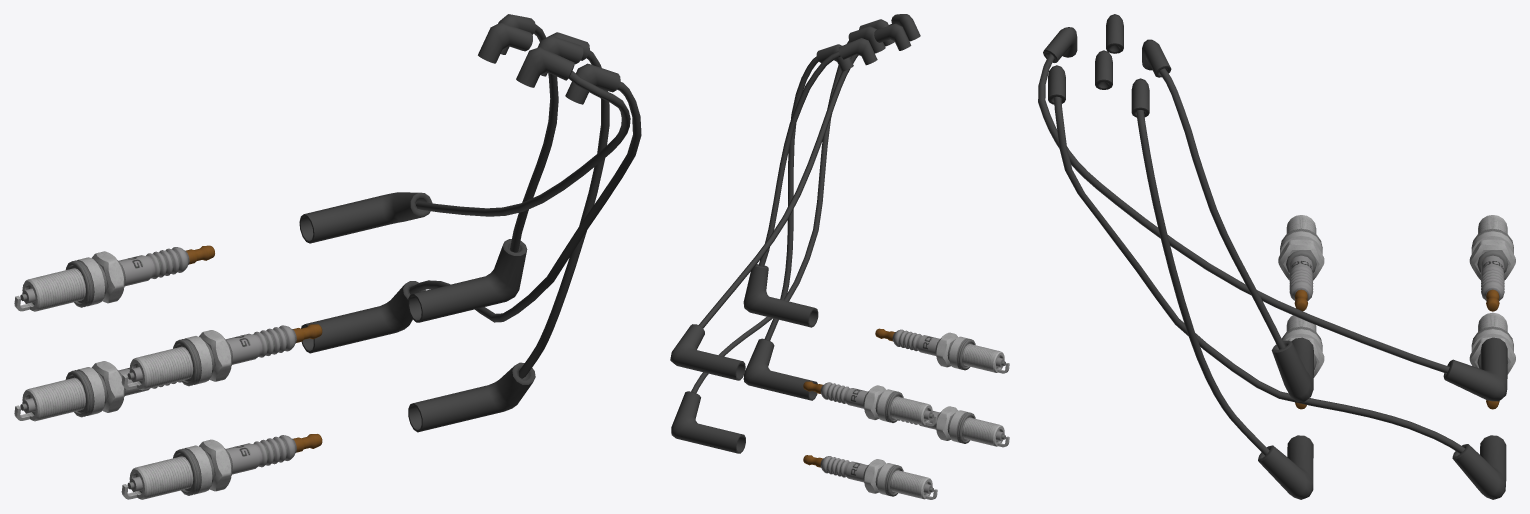
File: spark.glb
3 views of the same model, side by side, from view 1: azimuth 30°, elevation 25°; view 2: azimuth 150°, elevation 25°; view 3: azimuth 270°, elevation 25° (orthographic). The views are drawn at different scales.
Parts seen in each view (by area): view 1: rot_old_kable(0), swieca_1(1), swieca_1(2), swieca_1(3), swieca_1(0); view 2: rot_old_kable(0), swieca_1(1), swieca_1(0), swieca_1(2), swieca_1(3); view 3: rot_old_kable(0), swieca_1(2), swieca_1(1), swieca_1(0), swieca_1(3).
Part boxes in pixels (x1,y1,x2,y2): rot_old_kable(0): (299,14,641,432); swieca_1(1): (14,245,214,311); swieca_1(2): (121,324,322,390); swieca_1(3): (121,434,322,499); swieca_1(0): (14,361,181,421); rot_old_kable(0): (670,14,920,453); swieca_1(1): (803,381,937,426); swieca_1(0): (803,455,937,499); swieca_1(2): (875,328,1009,373); swieca_1(3): (898,406,1009,447); rot_old_kable(0): (1038,14,1507,499); swieca_1(2): (1278,215,1324,311); swieca_1(1): (1469,215,1515,311); swieca_1(0): (1469,312,1515,409); swieca_1(3): (1281,315,1324,409).
Size of the model in its own units: 0.00519 by 0.00609 by 0.00596.
Materials: 2 (1 with a texture image).
